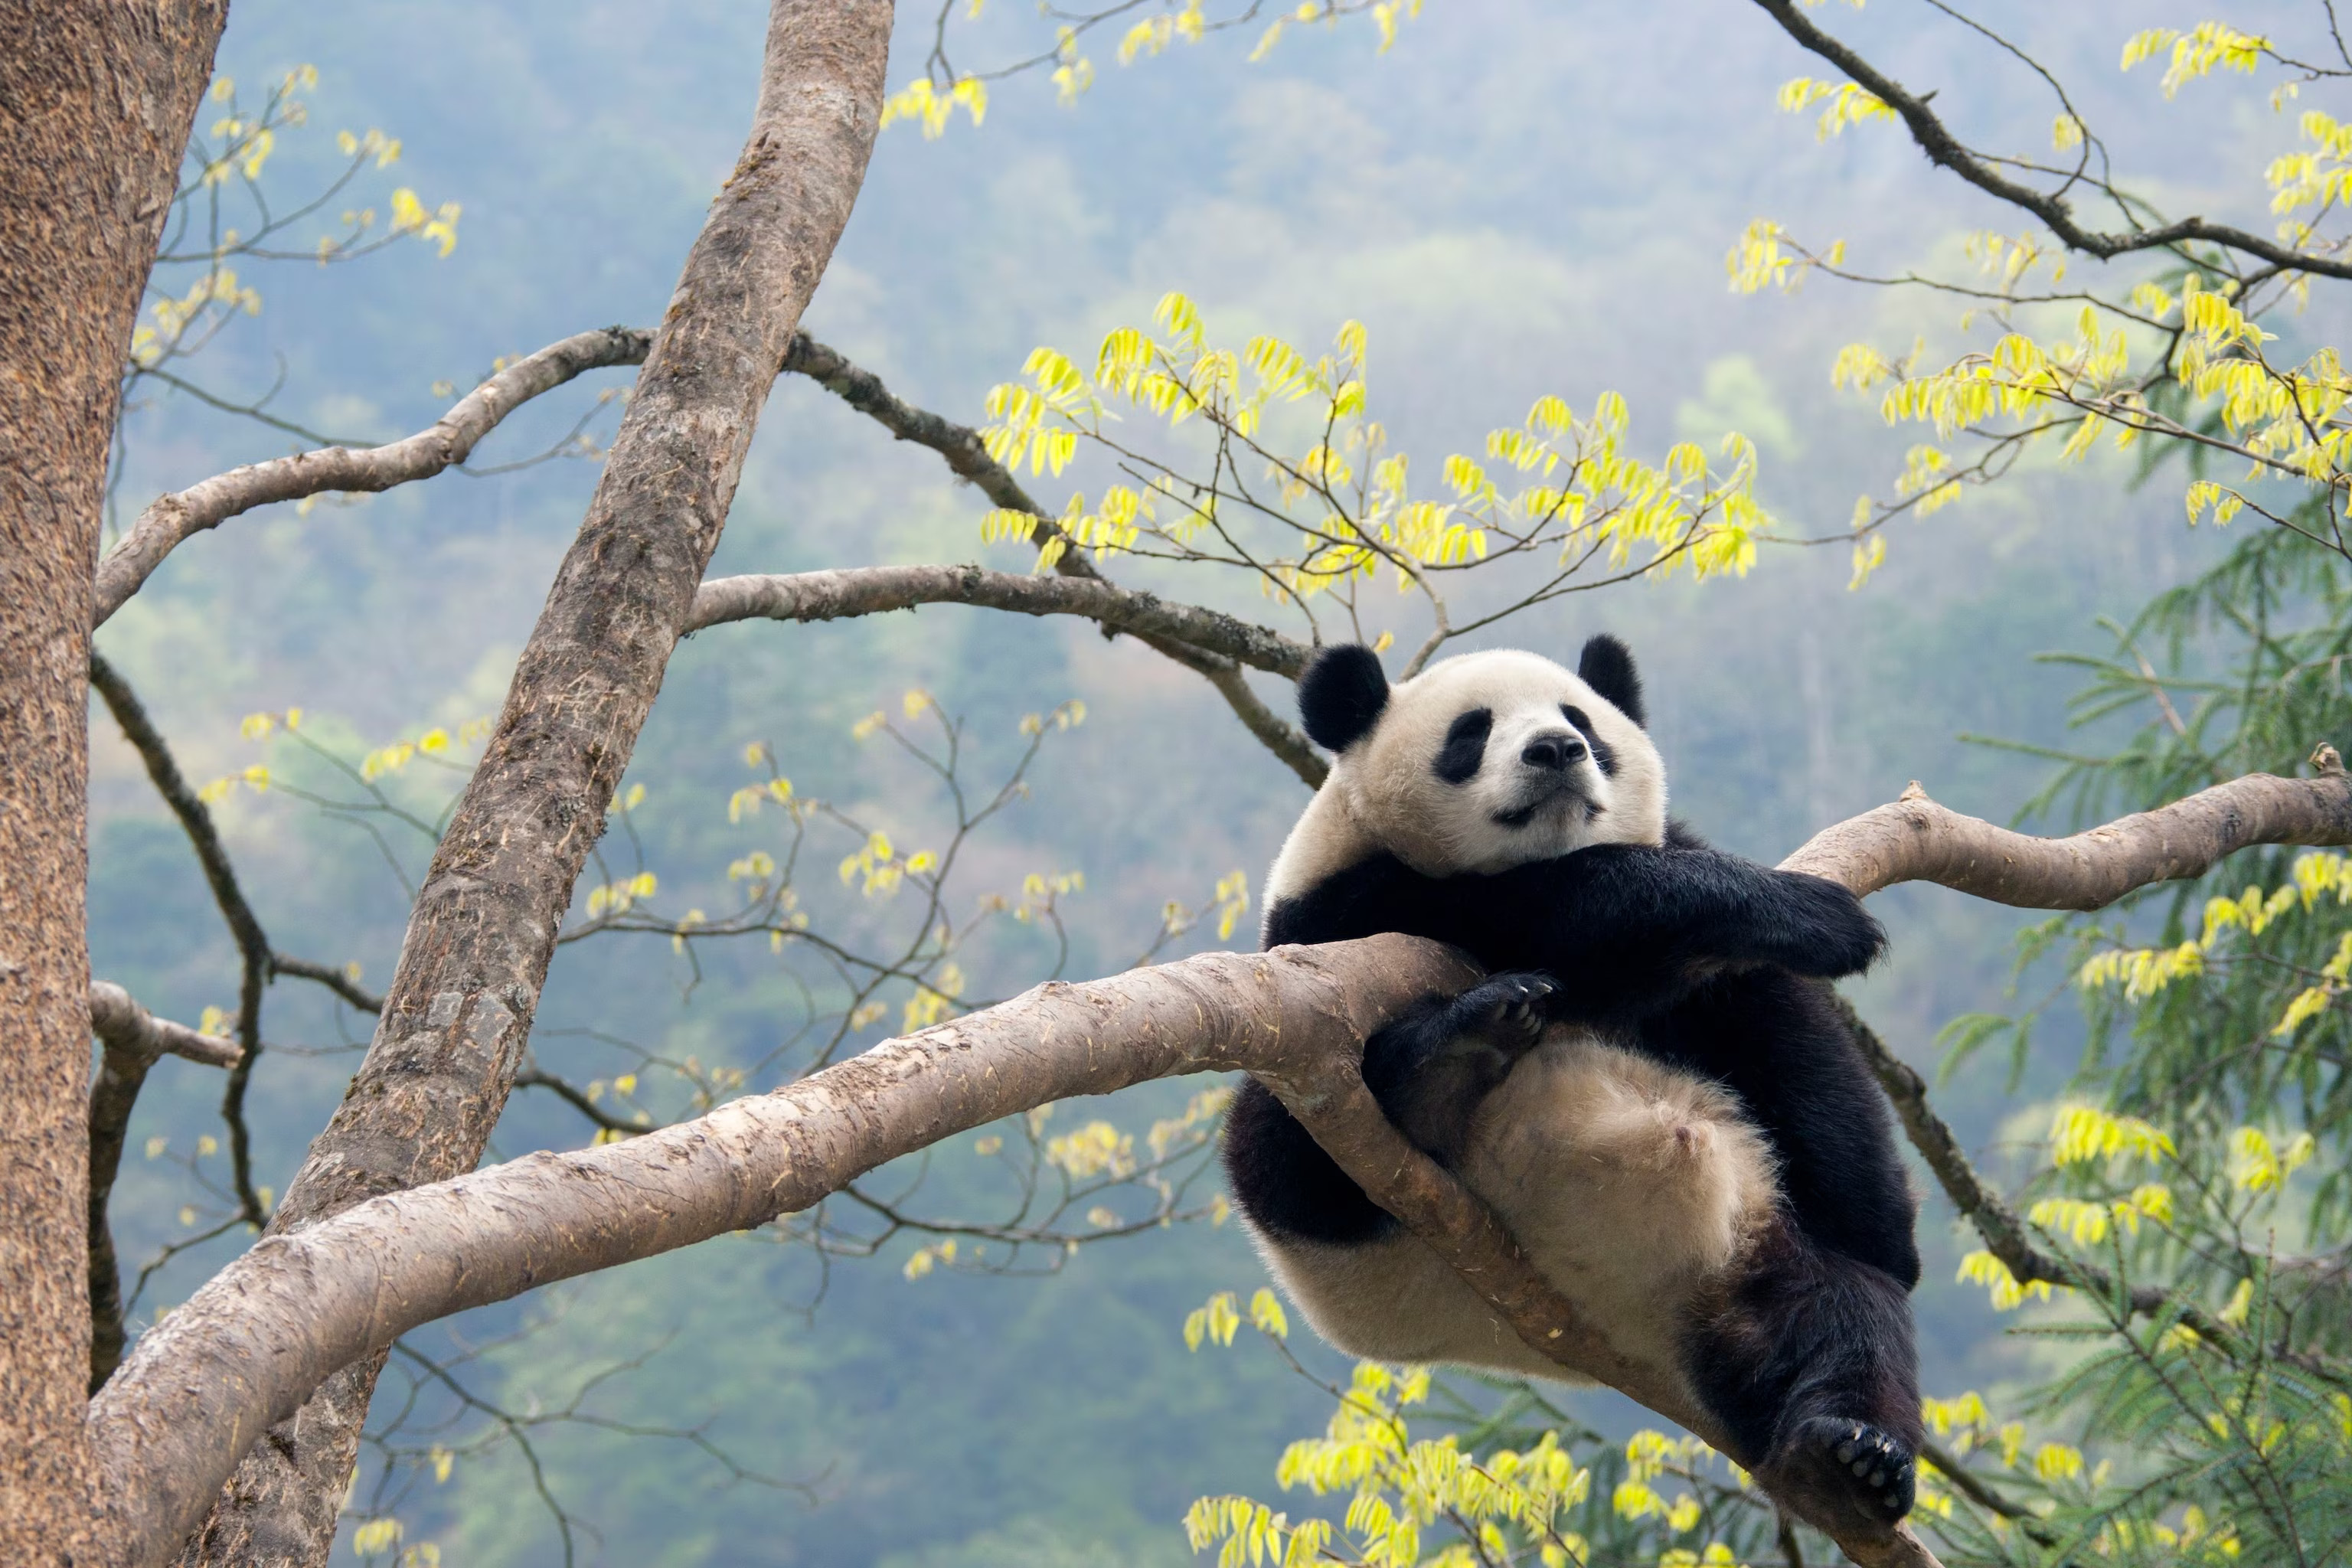Giant panda: (1283, 618, 1675, 873)
